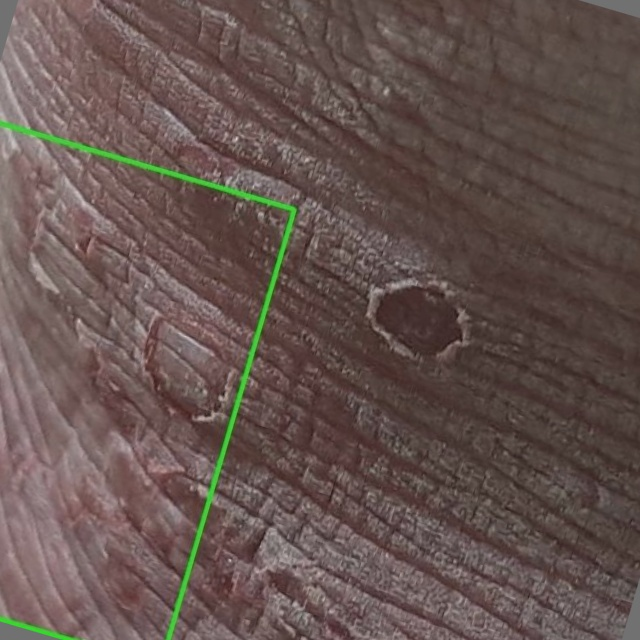Contact Dermatitis: (0, 124, 295, 639)
